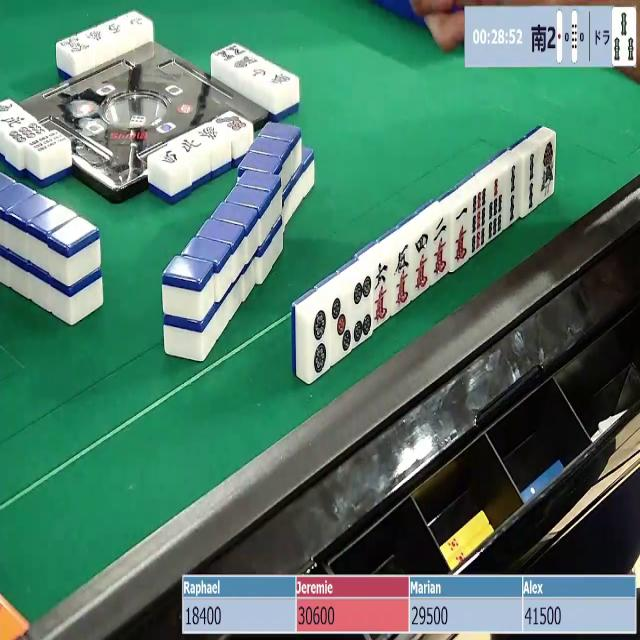m1: (453, 204, 470, 266)
m2: (432, 214, 452, 279)
m4: (413, 230, 434, 296)
m5: (392, 244, 414, 311)
m6: (374, 254, 392, 326)
s1: (537, 135, 554, 201)
s2: (507, 162, 524, 225), (523, 152, 539, 215)
s3: (613, 9, 636, 66)
s7: (488, 175, 507, 240)
s9: (470, 187, 488, 255)
t2: (310, 304, 332, 380)
t3: (328, 290, 353, 360)
t4: (353, 275, 374, 342)
